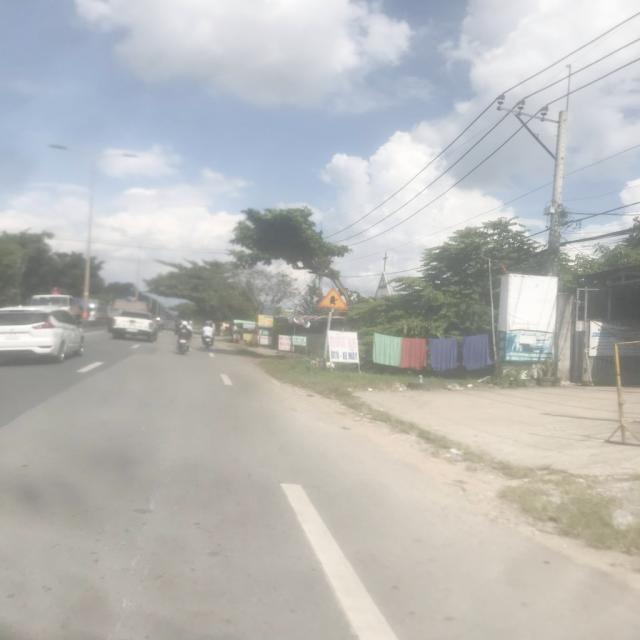giao_nhau_voi_duong_khong_uu_tien: (314, 288, 348, 313)
